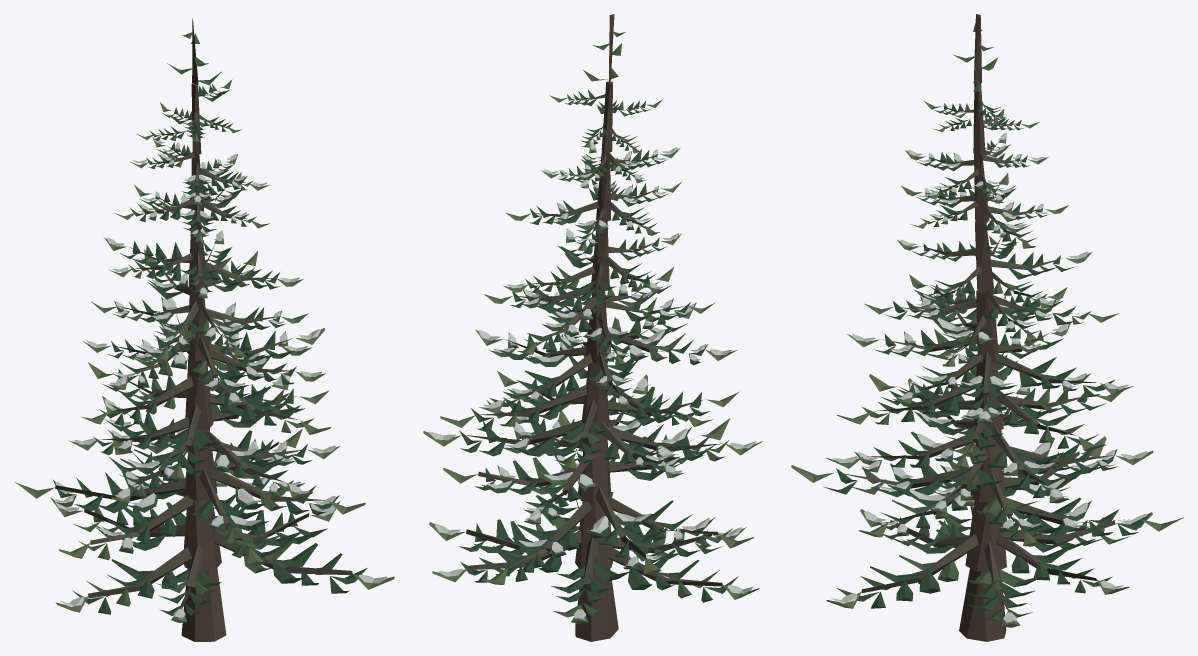
The model's file is spruce_young.glb.
The picture shows the model from 3 angles, left to right: view 1: azimuth 30°, elevation 25°; view 2: azimuth 150°, elevation 25°; view 3: azimuth 270°, elevation 25°; orthographic projection.
Visible parts, largest first — view 1: spruce_young; view 2: spruce_young; view 3: spruce_young.
Part boxes in pixels (<box>): spruce_young: <box>14,18,394,641</box>; spruce_young: <box>423,14,762,641</box>; spruce_young: <box>791,14,1183,641</box>.
Size of the model in its own units: 1.4 by 2.71 by 1.57.
